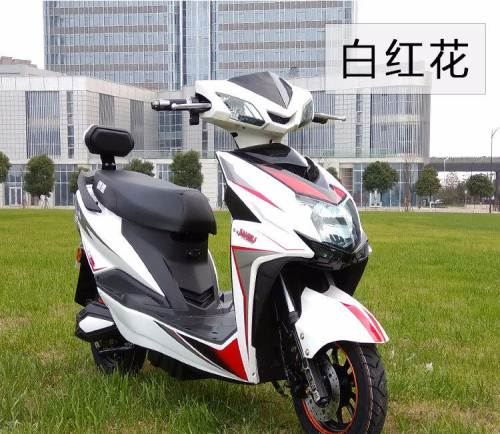电动车: (62, 69, 399, 433)
